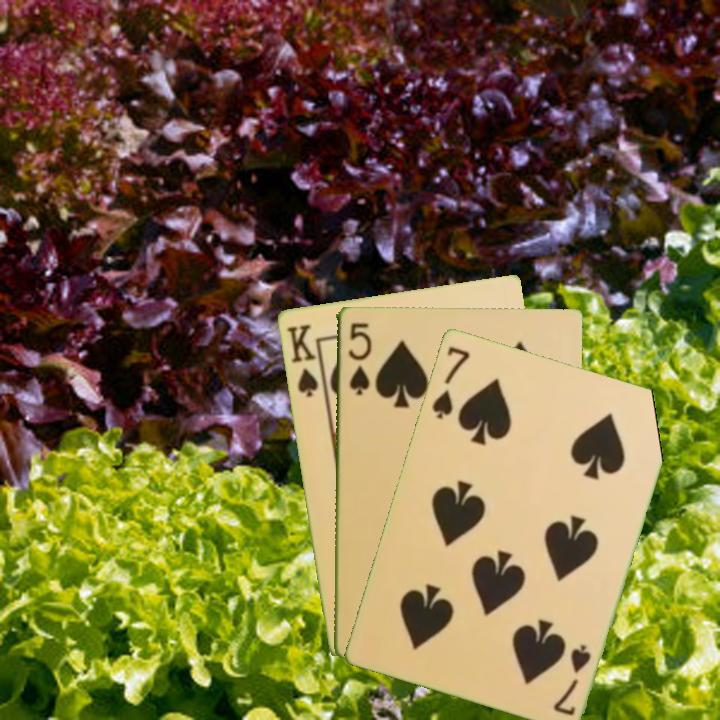5s: (344, 319, 372, 398)
7s: (549, 640, 594, 718), (428, 342, 472, 421)
Ks: (282, 320, 321, 400)
